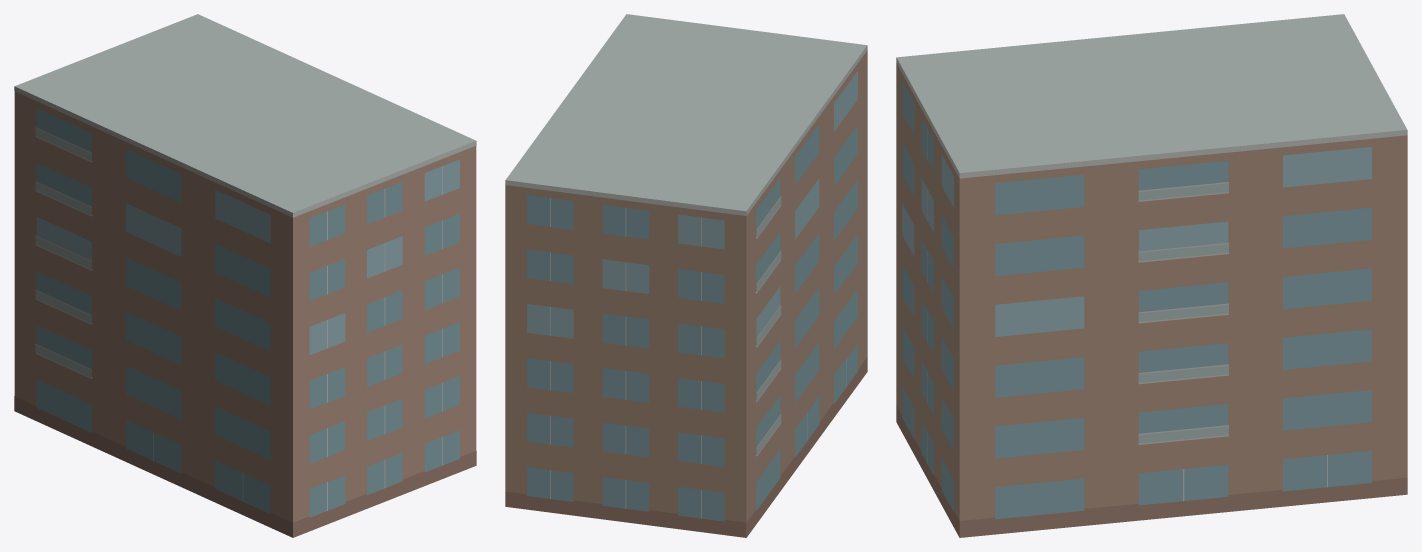
The model's file is survey-upis-32725461.glb.
3 renders of one model, left to right at view 1: azimuth 30°, elevation 25°; view 2: azimuth 150°, elevation 25°; view 3: azimuth 270°, elevation 25°, orthographic. The views are drawn at different scales.
Visible parts, largest first — view 1: survey-upis-32725461.tmp; view 2: survey-upis-32725461.tmp; view 3: survey-upis-32725461.tmp.
Part boxes in pixels (<box>): survey-upis-32725461.tmp: <box>14,14,476,537</box>; survey-upis-32725461.tmp: <box>505,14,867,537</box>; survey-upis-32725461.tmp: <box>896,14,1407,537</box>.
Bounding box in the file's own units: 15.55 × 16.6 × 21.1.
